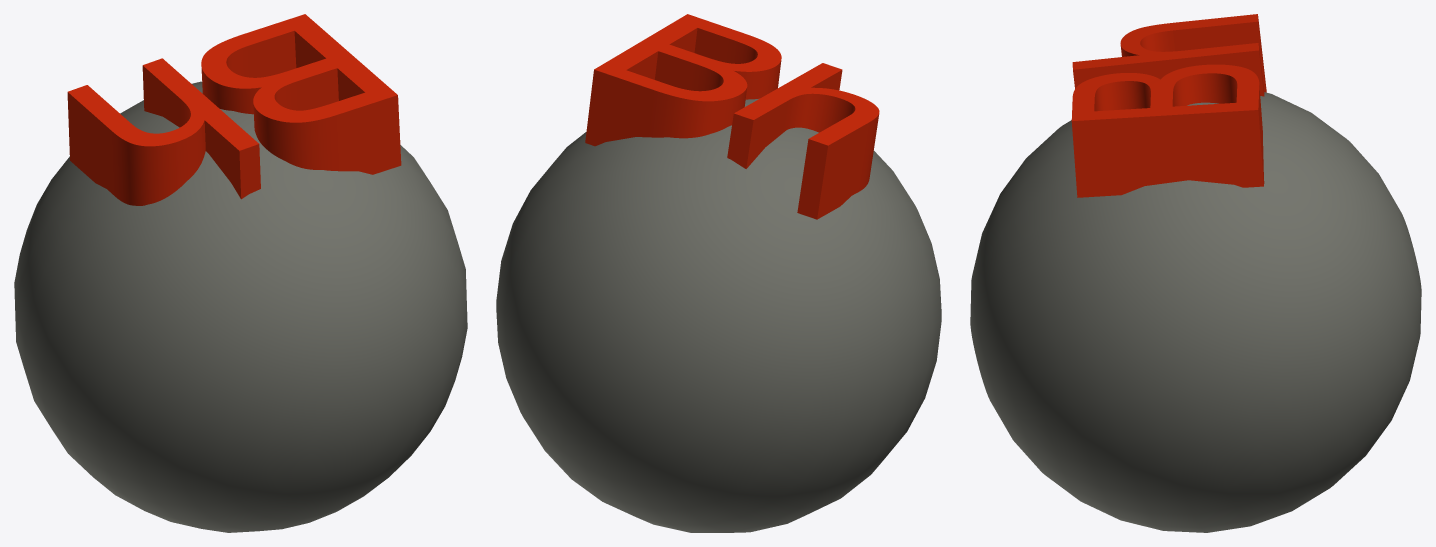
The picture shows the model from 3 angles, left to right: view 1: azimuth 30°, elevation 25°; view 2: azimuth 150°, elevation 25°; view 3: azimuth 270°, elevation 25°; orthographic projection.
Parts seen in each view (by area): view 1: Tc001, Object011, Object012; view 2: Tc001, Object011, Object012; view 3: Tc001, Object011, Object012.
Part boxes in pixels (x1,y1,x2,y2): Tc001: (14,81,467,532); Object011: (201,14,401,174); Object012: (67,58,260,205); Tc001: (496,98,941,532); Object011: (585,14,781,146); Object012: (727,63,879,219); Tc001: (970,92,1421,532); Object011: (1071,64,1264,197); Object012: (1072,14,1266,96).
Size of the model in its own units: 38.62 by 42.27 by 38.64.
